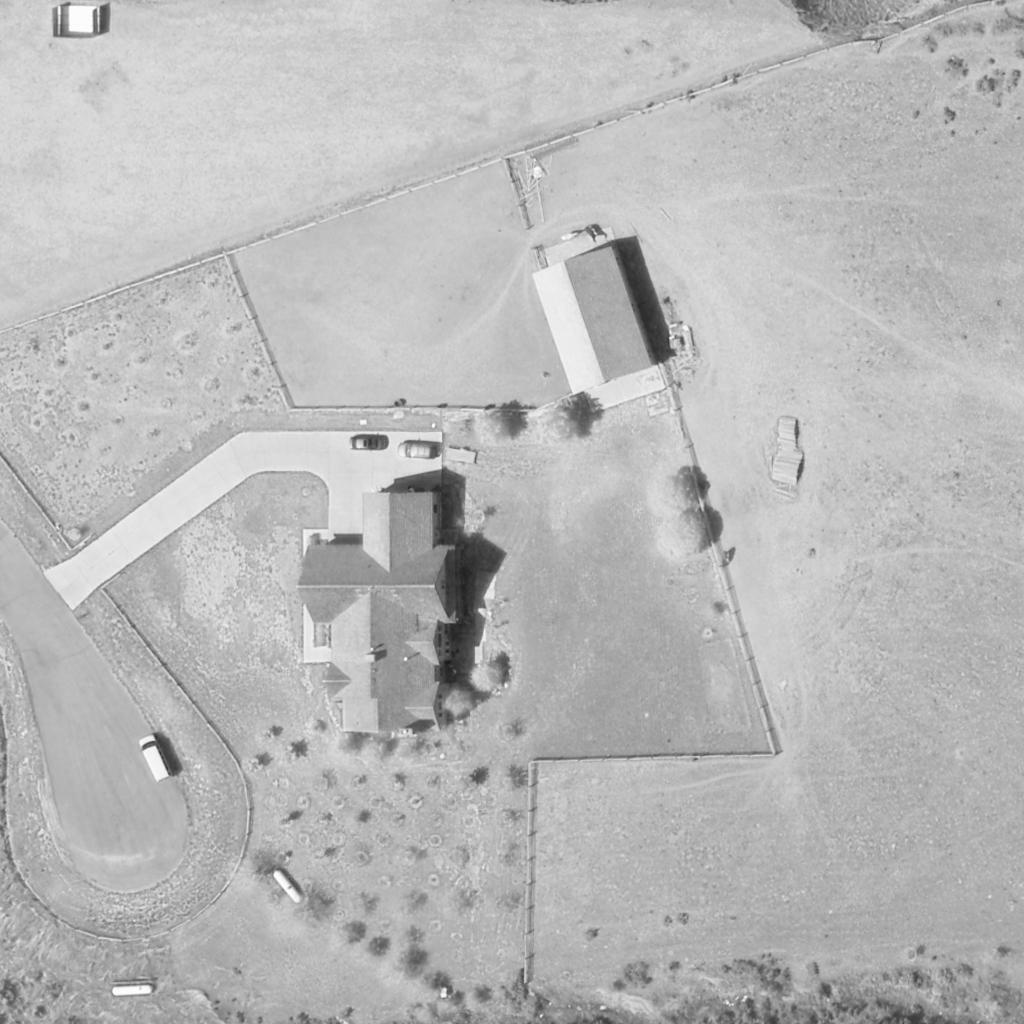vehicle: (134, 732, 178, 786), (395, 444, 441, 458), (349, 431, 389, 447)
